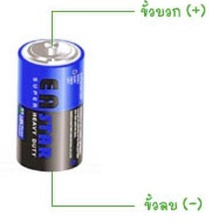battery: (14, 36, 88, 175)
